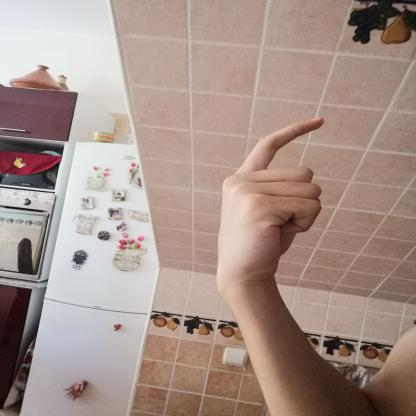RAA: (206, 106, 337, 300)
